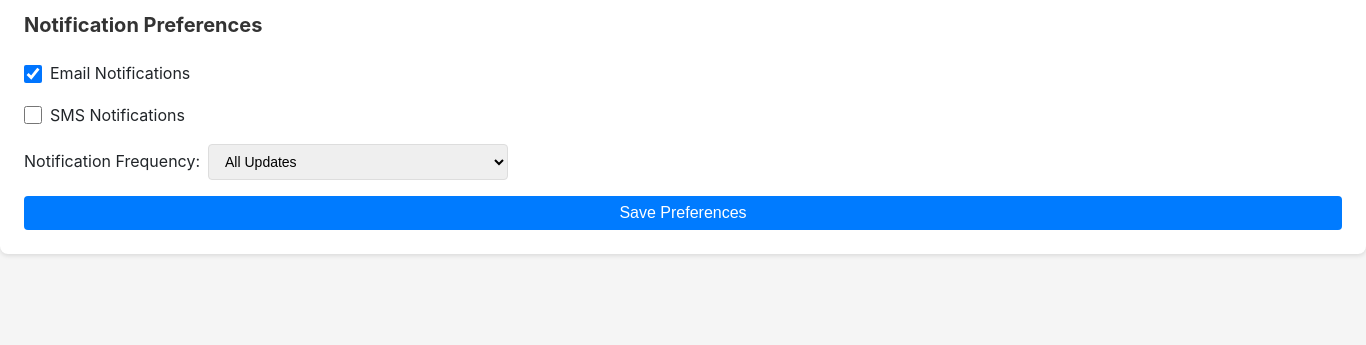
Test: NotificationPreferences › should display error message when save fails
Click the button "Save Preferences": x=683, y=213 left=24, top=196, right=1342, bottom=230
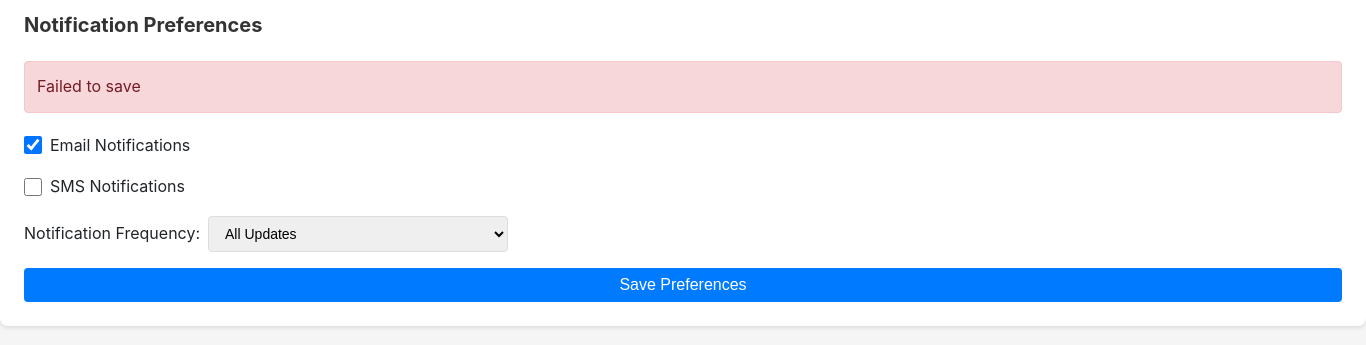
Expected: the text "Failed to save" is shown, left=24, top=61, right=1342, bottom=113
